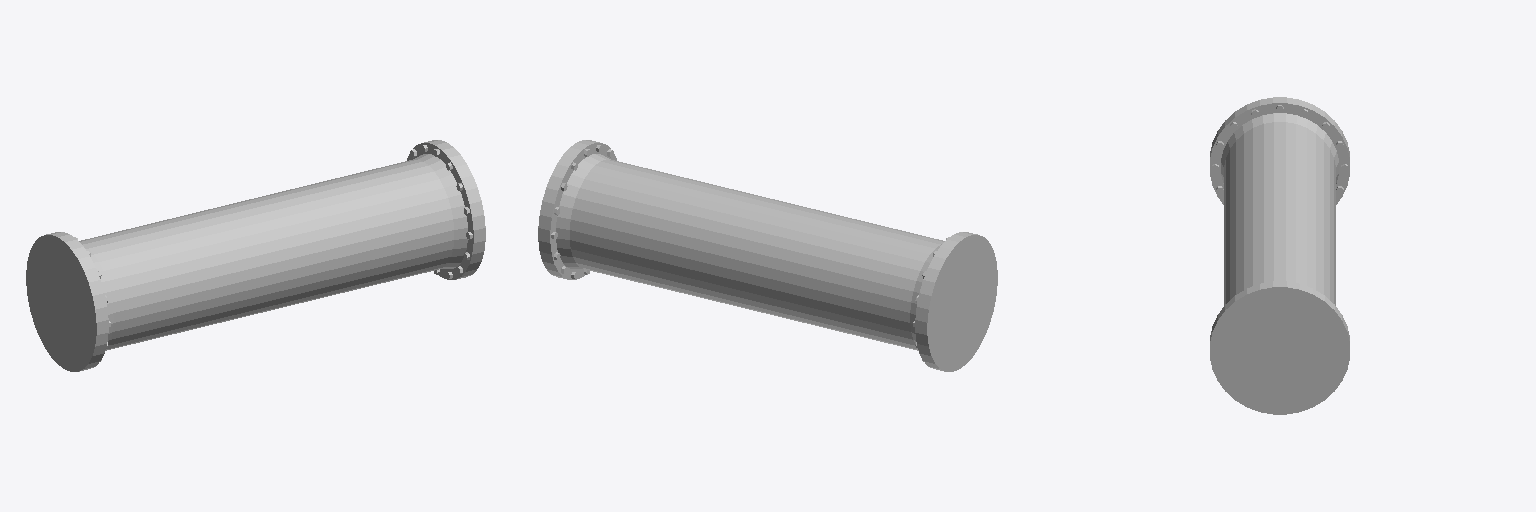
The model's file is pipeworks_pipe_3.obj.
The picture shows the model from 3 angles: view 1: azimuth 30°, elevation 25°; view 2: azimuth 150°, elevation 25°; view 3: azimuth 270°, elevation 25°; orthographic projection.
Visible parts, largest first — view 1: Pipe_Cylinder.002; view 2: Pipe_Cylinder.002; view 3: Pipe_Cylinder.002.
Part boxes in pixels (left/top/right/bottom): Pipe_Cylinder.002: left=26, top=140, right=485, bottom=371; Pipe_Cylinder.002: left=538, top=140, right=997, bottom=371; Pipe_Cylinder.002: left=1210, top=97, right=1349, bottom=414.
Size of the model in its own units: 1 by 0.3125 by 0.3125.